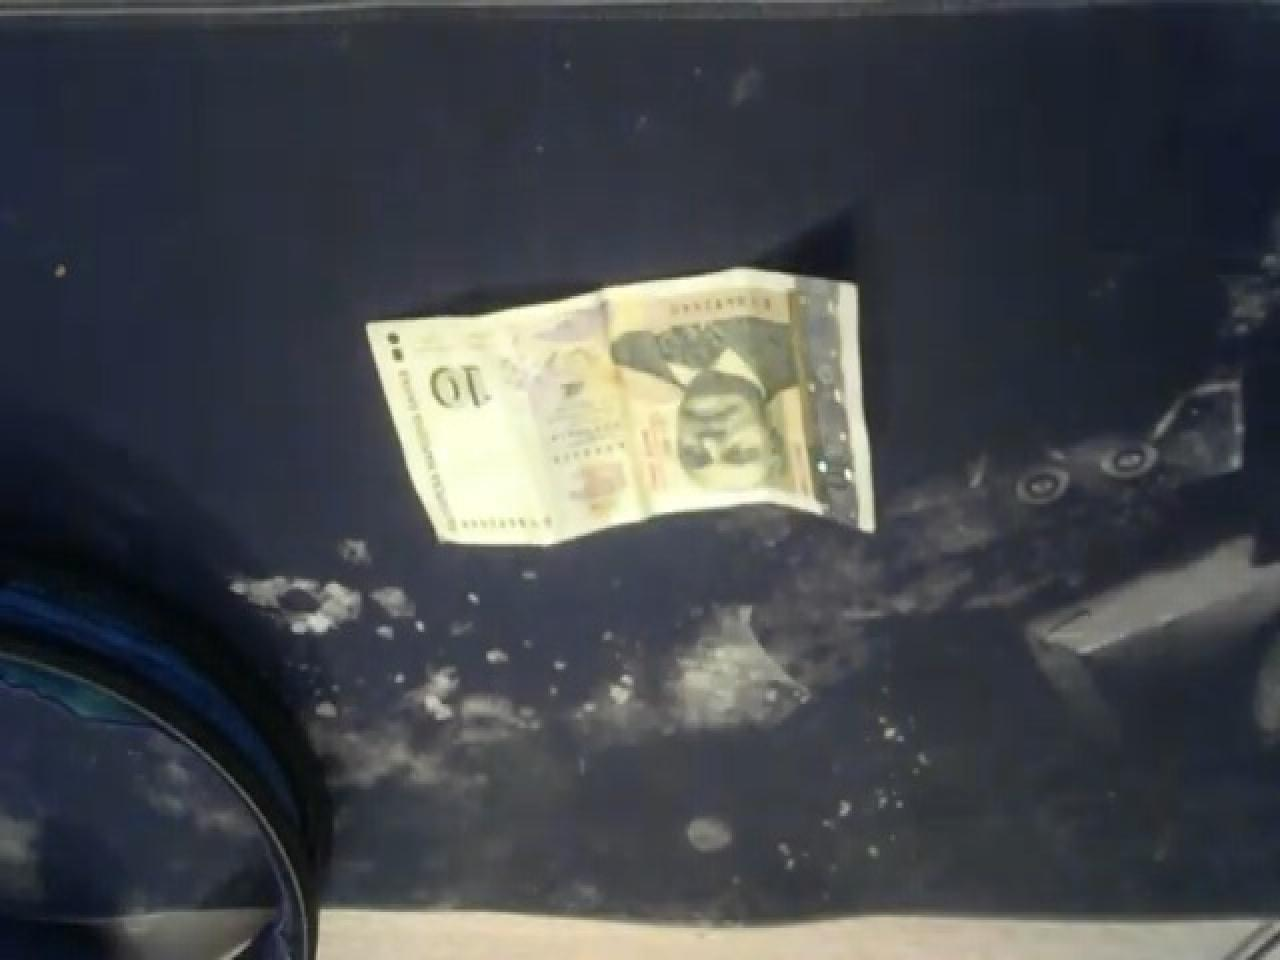10leva: (364, 261, 880, 544)
